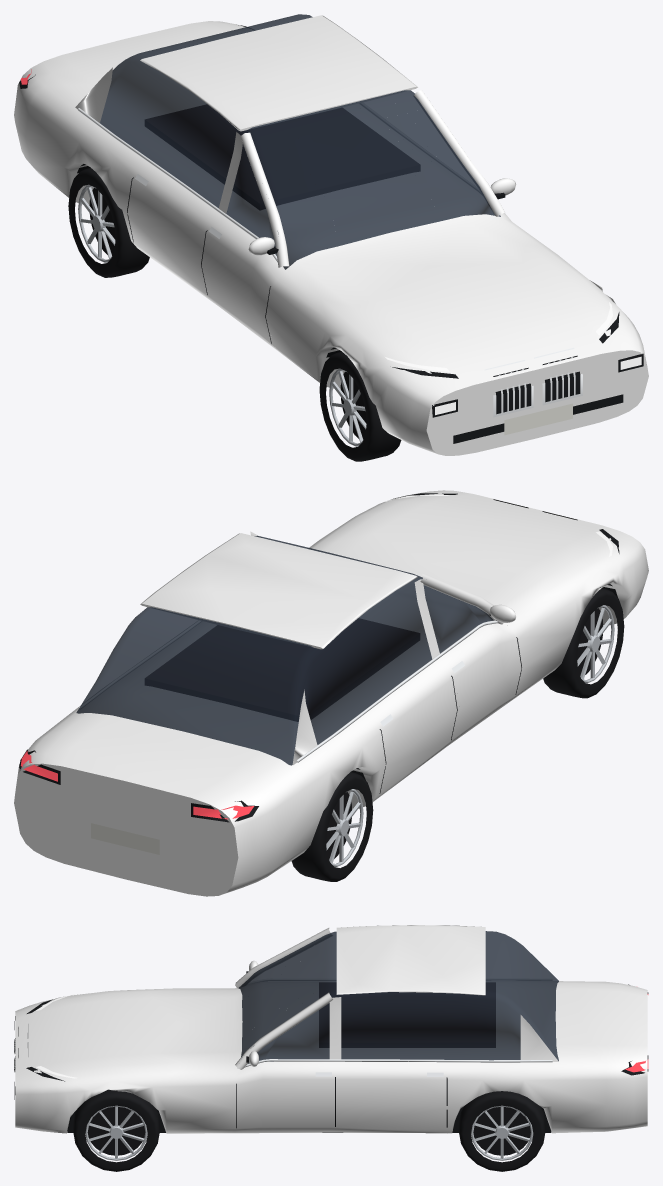
File: bmw_i7_g70.lod.glb
3 views of the same model, one above another, from view 1: azimuth 30°, elevation 25°; view 2: azimuth 150°, elevation 25°; view 3: azimuth 270°, elevation 25° (orthographic). The views are drawn at different scales.
Visible parts, largest first — view 1: body_paint, body_glass, body_trim, door_glass (×2), door_paint, tire (×2), rim (×2), body_chrome, headlights; view 2: body_paint, body_glass, body_trim, door_paint, tire (×2), rim (×2), door_glass, body_chrome, taillights; view 3: body_paint, body_glass, body_trim, door_paint, tire (×2), door_glass (×2), rim_back (×2), rim (×2), body_chrome.
Boxes of the visible parts, x1,y1,x2,y2 form: body_paint: (14, 15, 648, 455); body_glass: (100, 14, 449, 246); body_trim: (19, 25, 643, 443); door_glass (×2): (226, 91, 500, 269); door_paint: (204, 138, 285, 351); tire (×2): (68, 168, 401, 461); rim (×2): (78, 184, 366, 446); body_chrome: (77, 103, 582, 417); headlights: (385, 302, 641, 415); body_paint: (14, 490, 648, 896); body_glass: (76, 535, 431, 765); body_trim: (19, 493, 619, 854); door_paint: (420, 574, 522, 746); tire (×2): (291, 588, 624, 881); rim (×2): (326, 605, 614, 867); door_glass: (412, 574, 493, 653); body_chrome: (79, 620, 497, 762); taillights: (20, 751, 254, 819); body_paint: (15, 925, 647, 1133); body_glass: (242, 931, 558, 1060); body_trim: (14, 983, 648, 1132); door_paint: (235, 996, 332, 1133); tire (×2): (73, 1089, 545, 1171); door_glass (×2): (238, 932, 335, 1063); rim_back (×2): (87, 1107, 530, 1155); rim (×2): (85, 1105, 533, 1160); body_chrome: (14, 978, 552, 1076).
Size of the model in its own units: 2.02 by 1.59 by 5.41.
